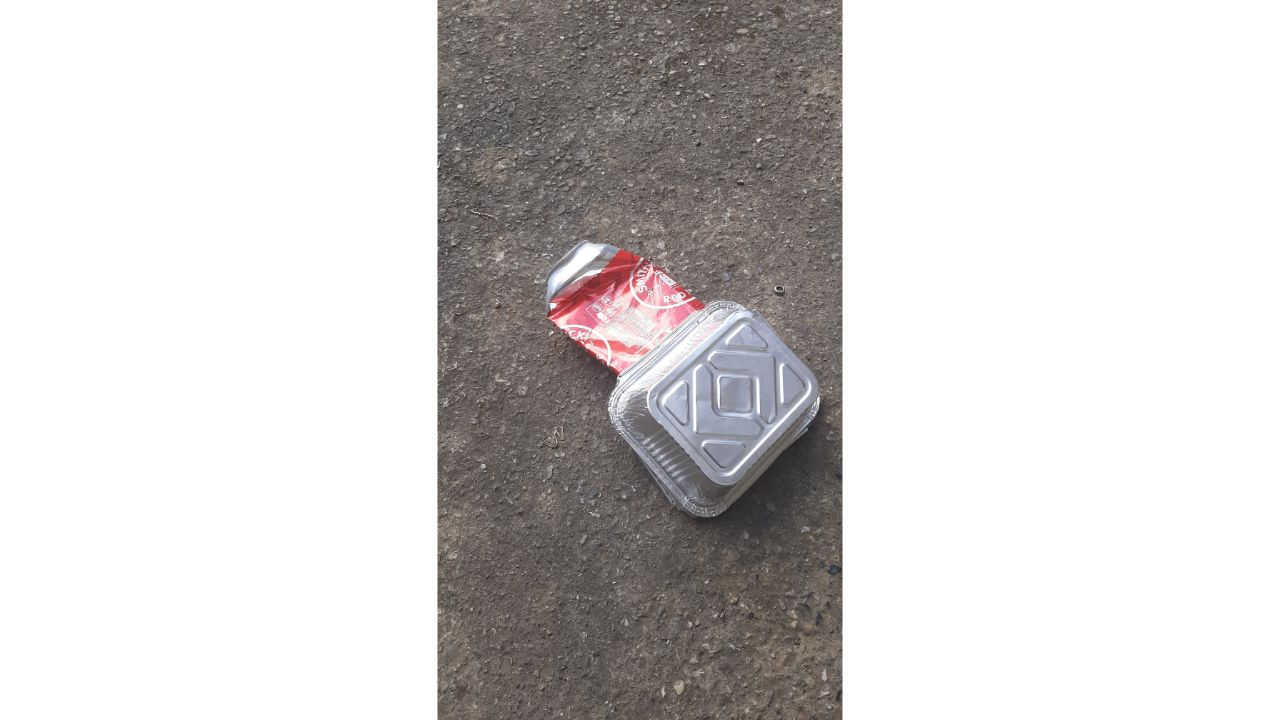Can: (540, 232, 712, 385)
